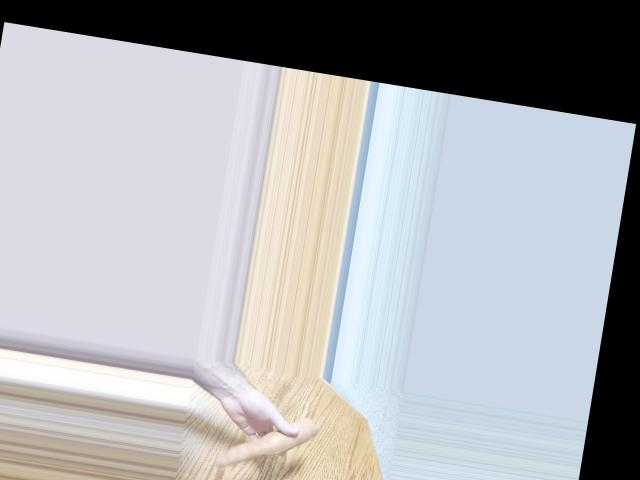sweet_potato: (217, 408, 330, 476)
